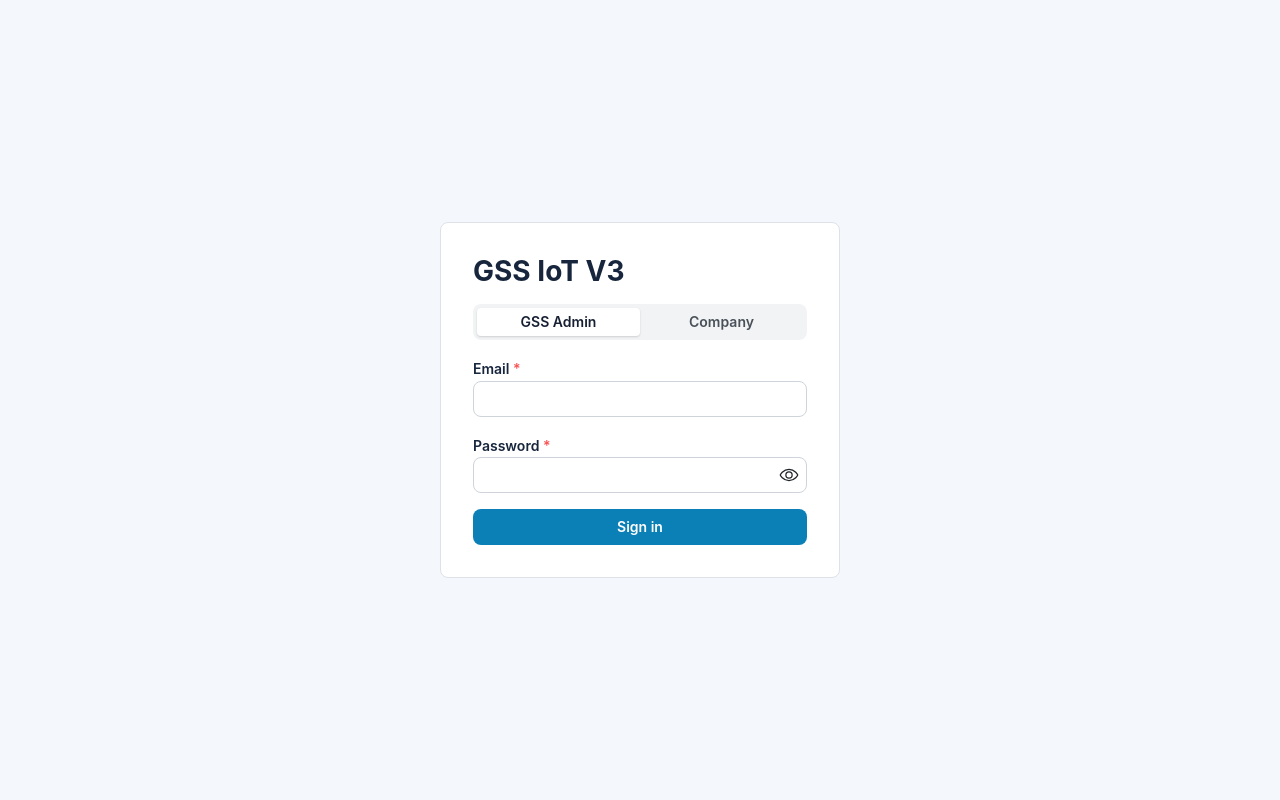
Test: auth routing › opens a company detail route after GSS login without redirecting to login
In the field labelled "Email *": (640, 399) x1=473 y1=381 x2=807 y2=417, type "admin@example.com"
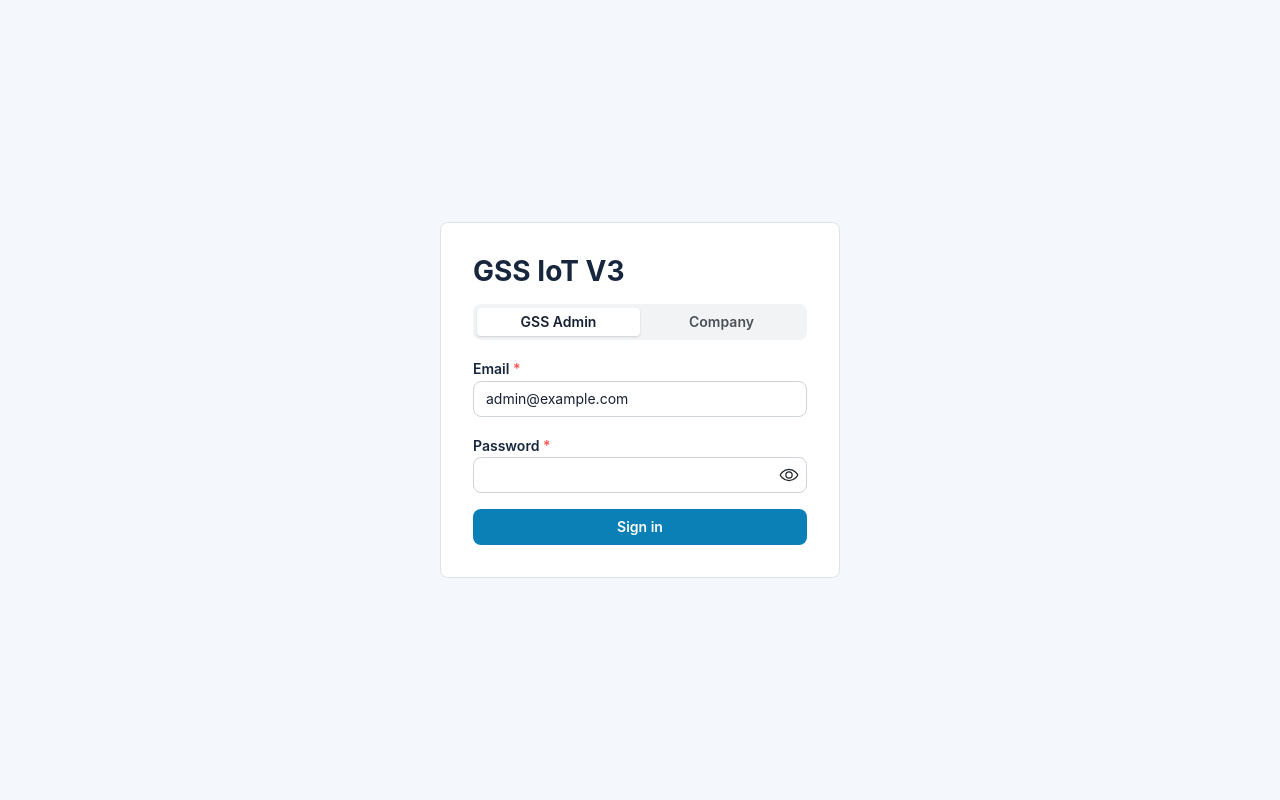
In the password field labelled "Password *": (640, 475) x1=474 y1=458 x2=806 y2=492, type "test-password"
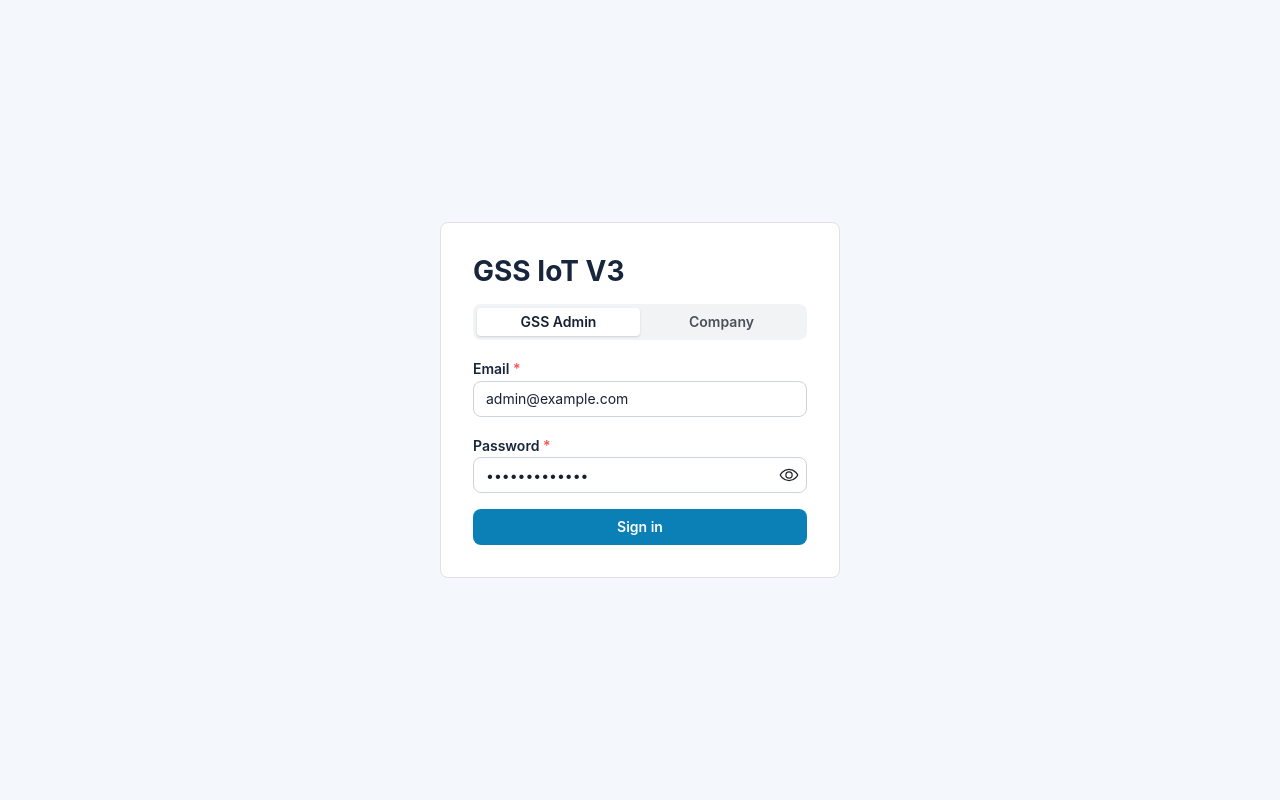
Click the button "Sign in": (640, 527) x1=473 y1=509 x2=807 y2=545
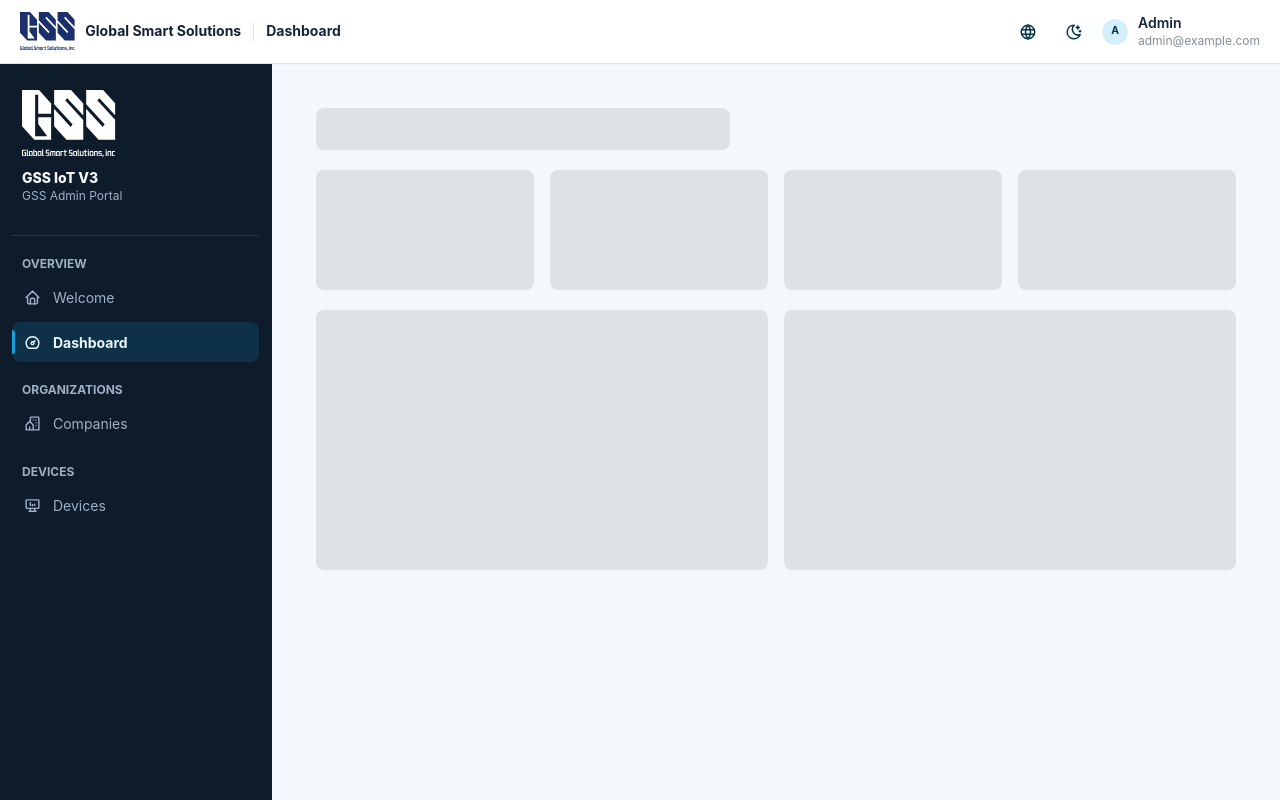
Click the link "Companies": (76, 424) x1=24 y1=415 x2=128 y2=432
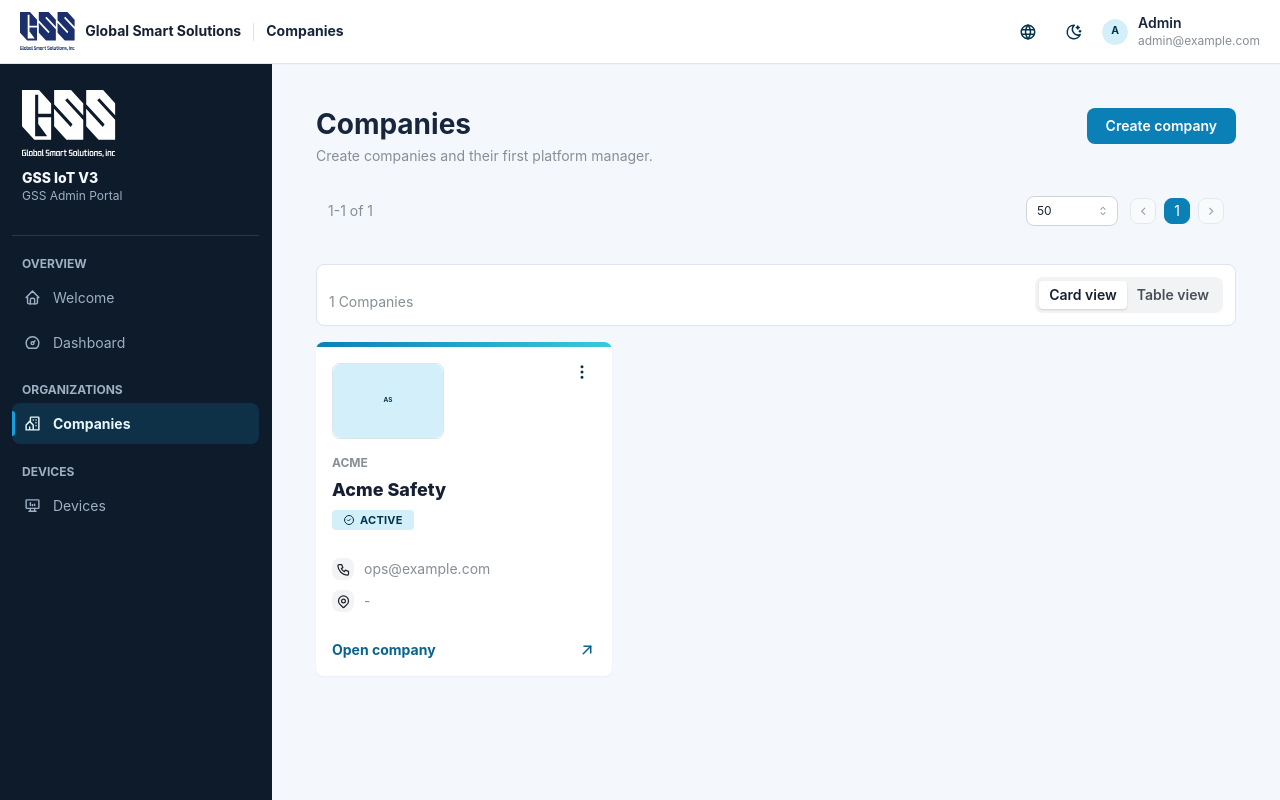
Click the button with aria-label "Open company: Acme Safety": (464, 344) x1=316 y1=342 x2=612 y2=676
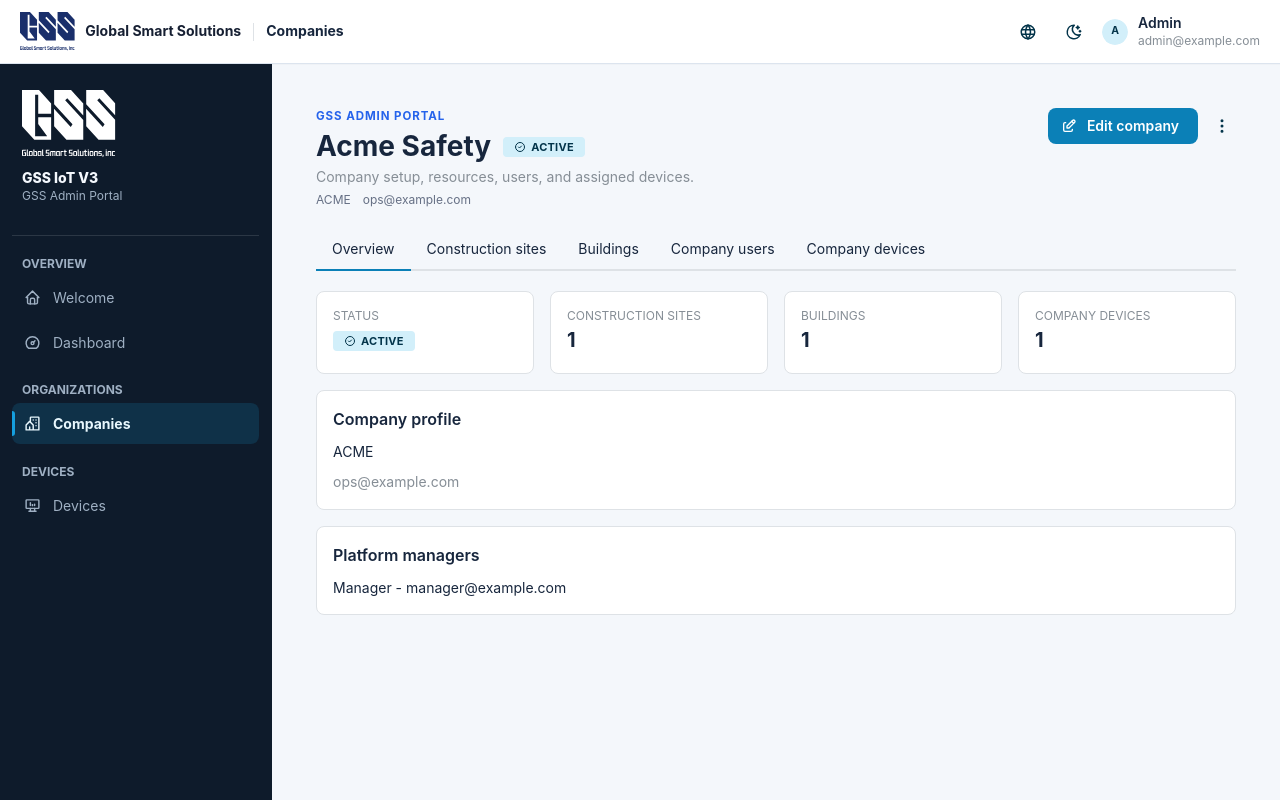
expect the button "Sign in" is not shown: met
expect the text "Overview" below "GSS IoT V3" is shown: met, box x1=22 y1=256 x2=87 y2=271
expect the text "Company setup, resources, users, and assigned devices." is shown: met, box x1=316 y1=168 x2=694 y2=185
